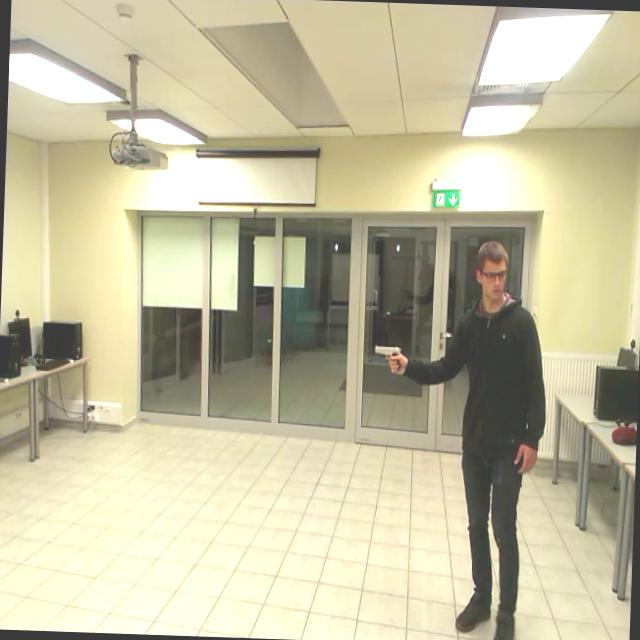handgun: (363, 327, 411, 387)
